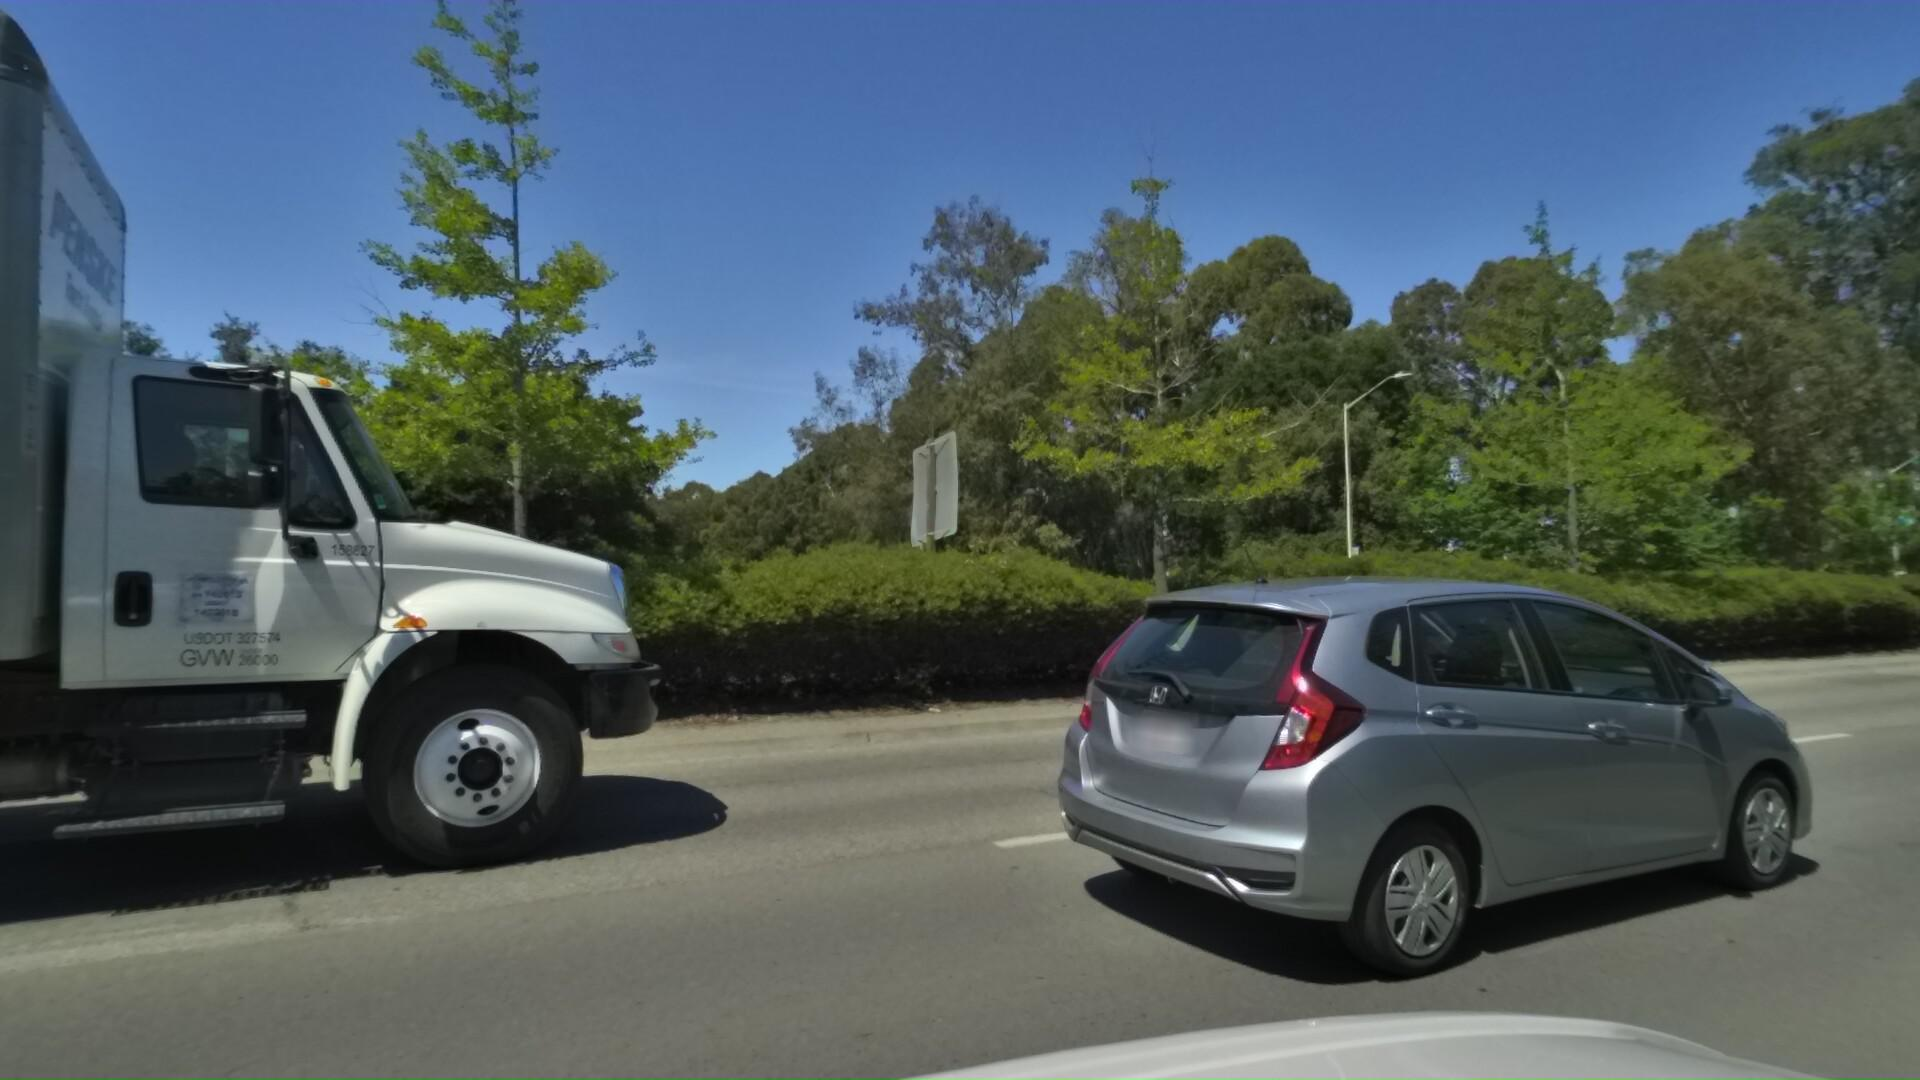car: (998, 558, 1888, 1031)
